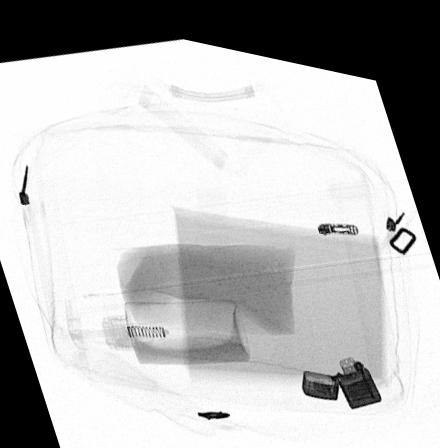Lighter: (301, 341, 381, 393)
